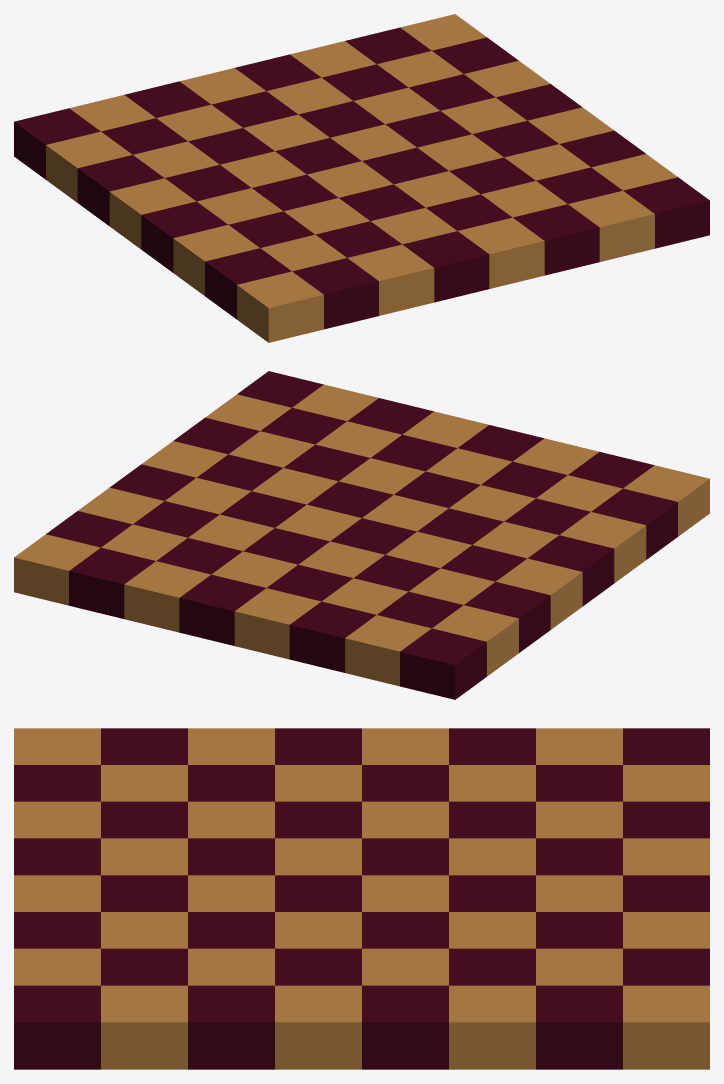
File: tahta_oyma.glb
The picture shows the model from 3 angles, top to bottom: view 1: azimuth 30°, elevation 25°; view 2: azimuth 150°, elevation 25°; view 3: azimuth 270°, elevation 25°; orthographic projection. The views are drawn at different scales.
Visible parts, largest first — view 1: t0, t1; view 2: t1, t0; view 3: t0, t1.
Part boxes in pixels (x1=…): t0: x1=14, y1=27, x2=709, y2=329; t1: x1=46, y1=14, x2=677, y2=342; t1: x1=14, y1=384, x2=709, y2=686; t0: x1=46, y1=371, x2=677, y2=699; t0: x1=14, y1=728, x2=709, y2=1069; t1: x1=14, y1=728, x2=709, y2=1069.
Bounding box in the file's own units: 8 × 0.6026 × 8.
